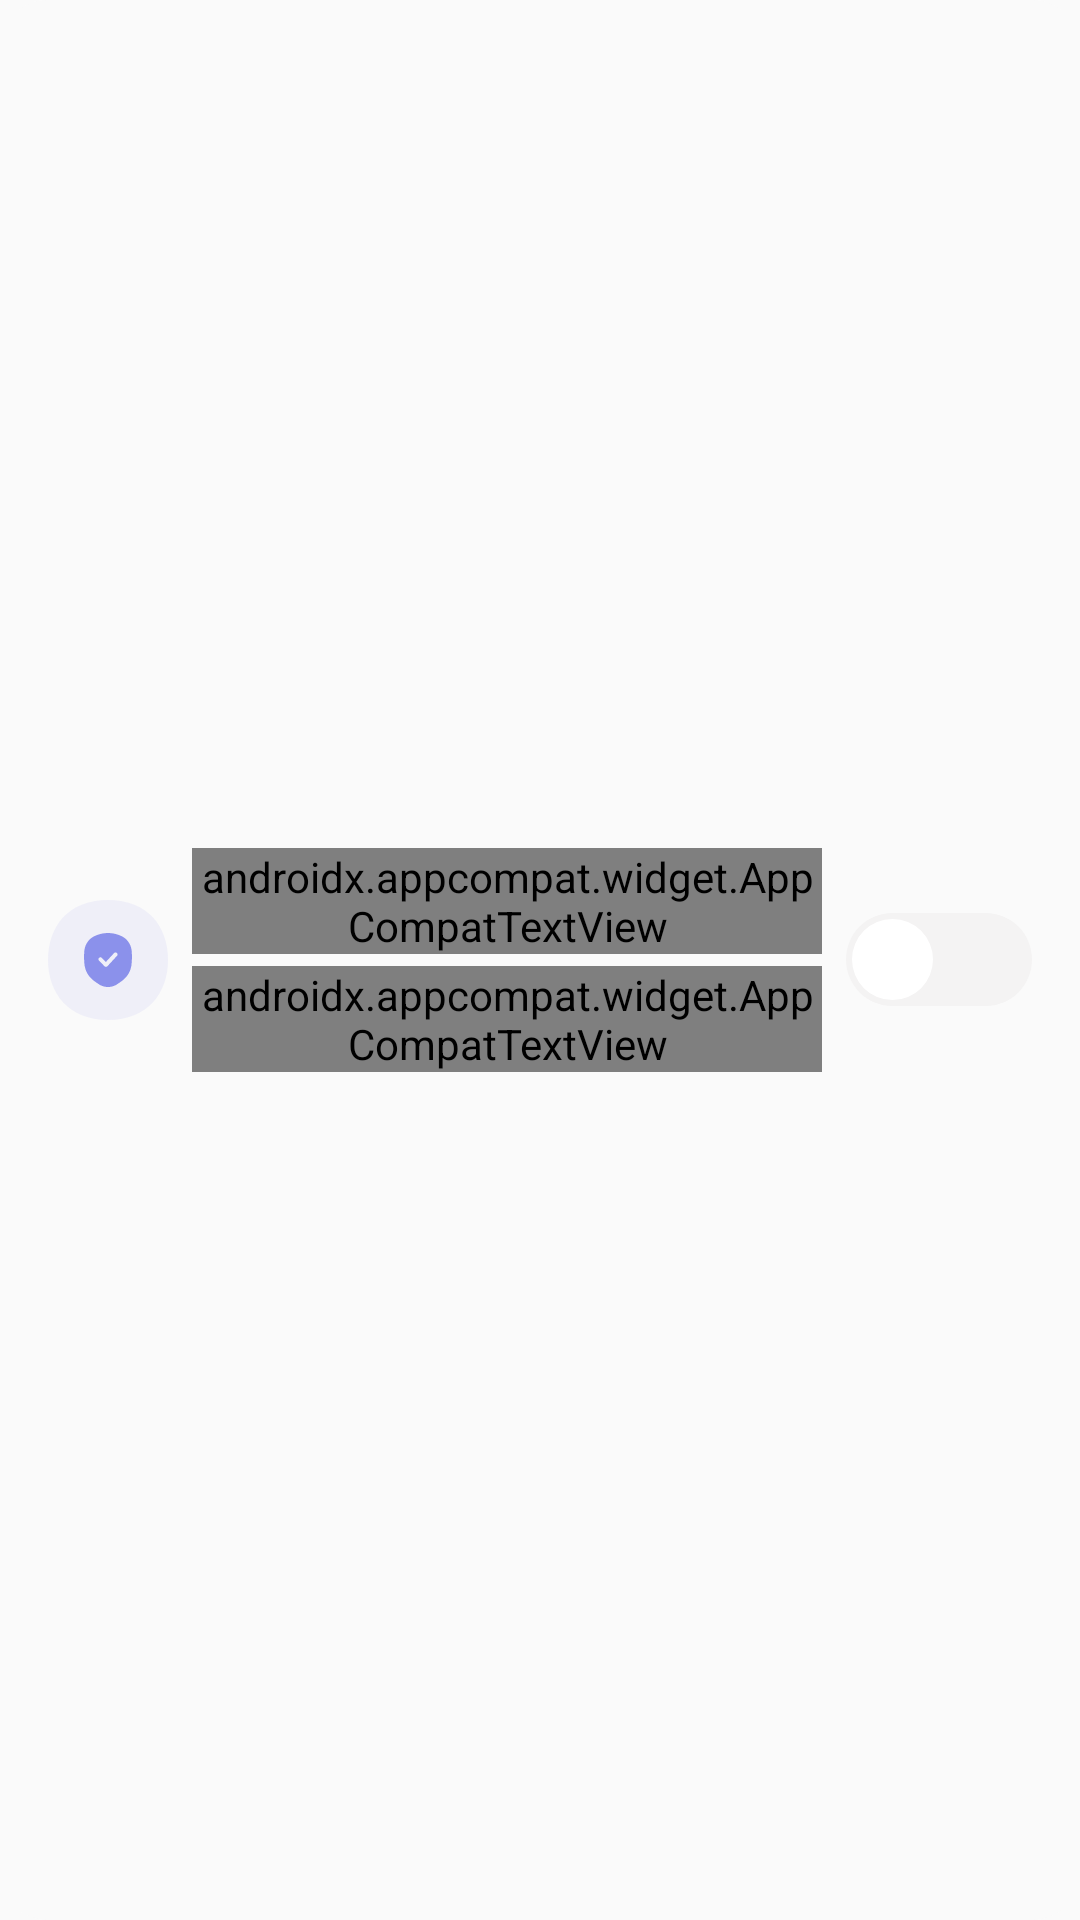

Point at icon controls on the screen. Image size 1080*1920, points as (x=x, y=y).
malware: (x=108, y=960)
